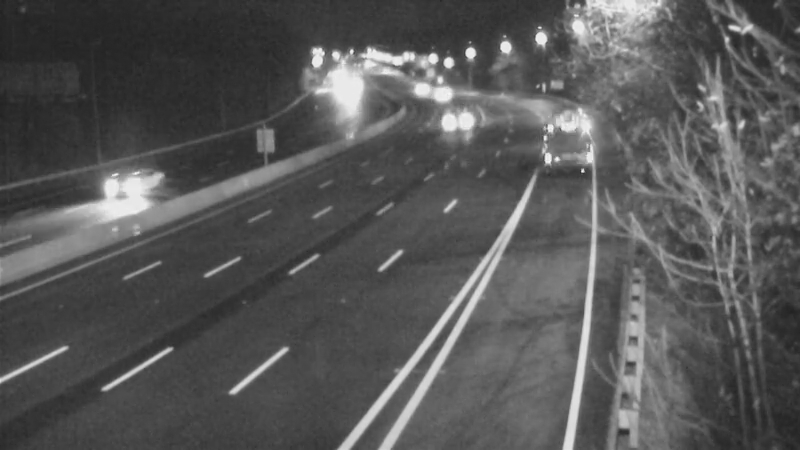vehicle: (81, 152, 161, 232), (397, 64, 447, 114), (419, 67, 469, 117), (536, 105, 586, 155), (439, 97, 489, 147), (316, 66, 366, 116)
